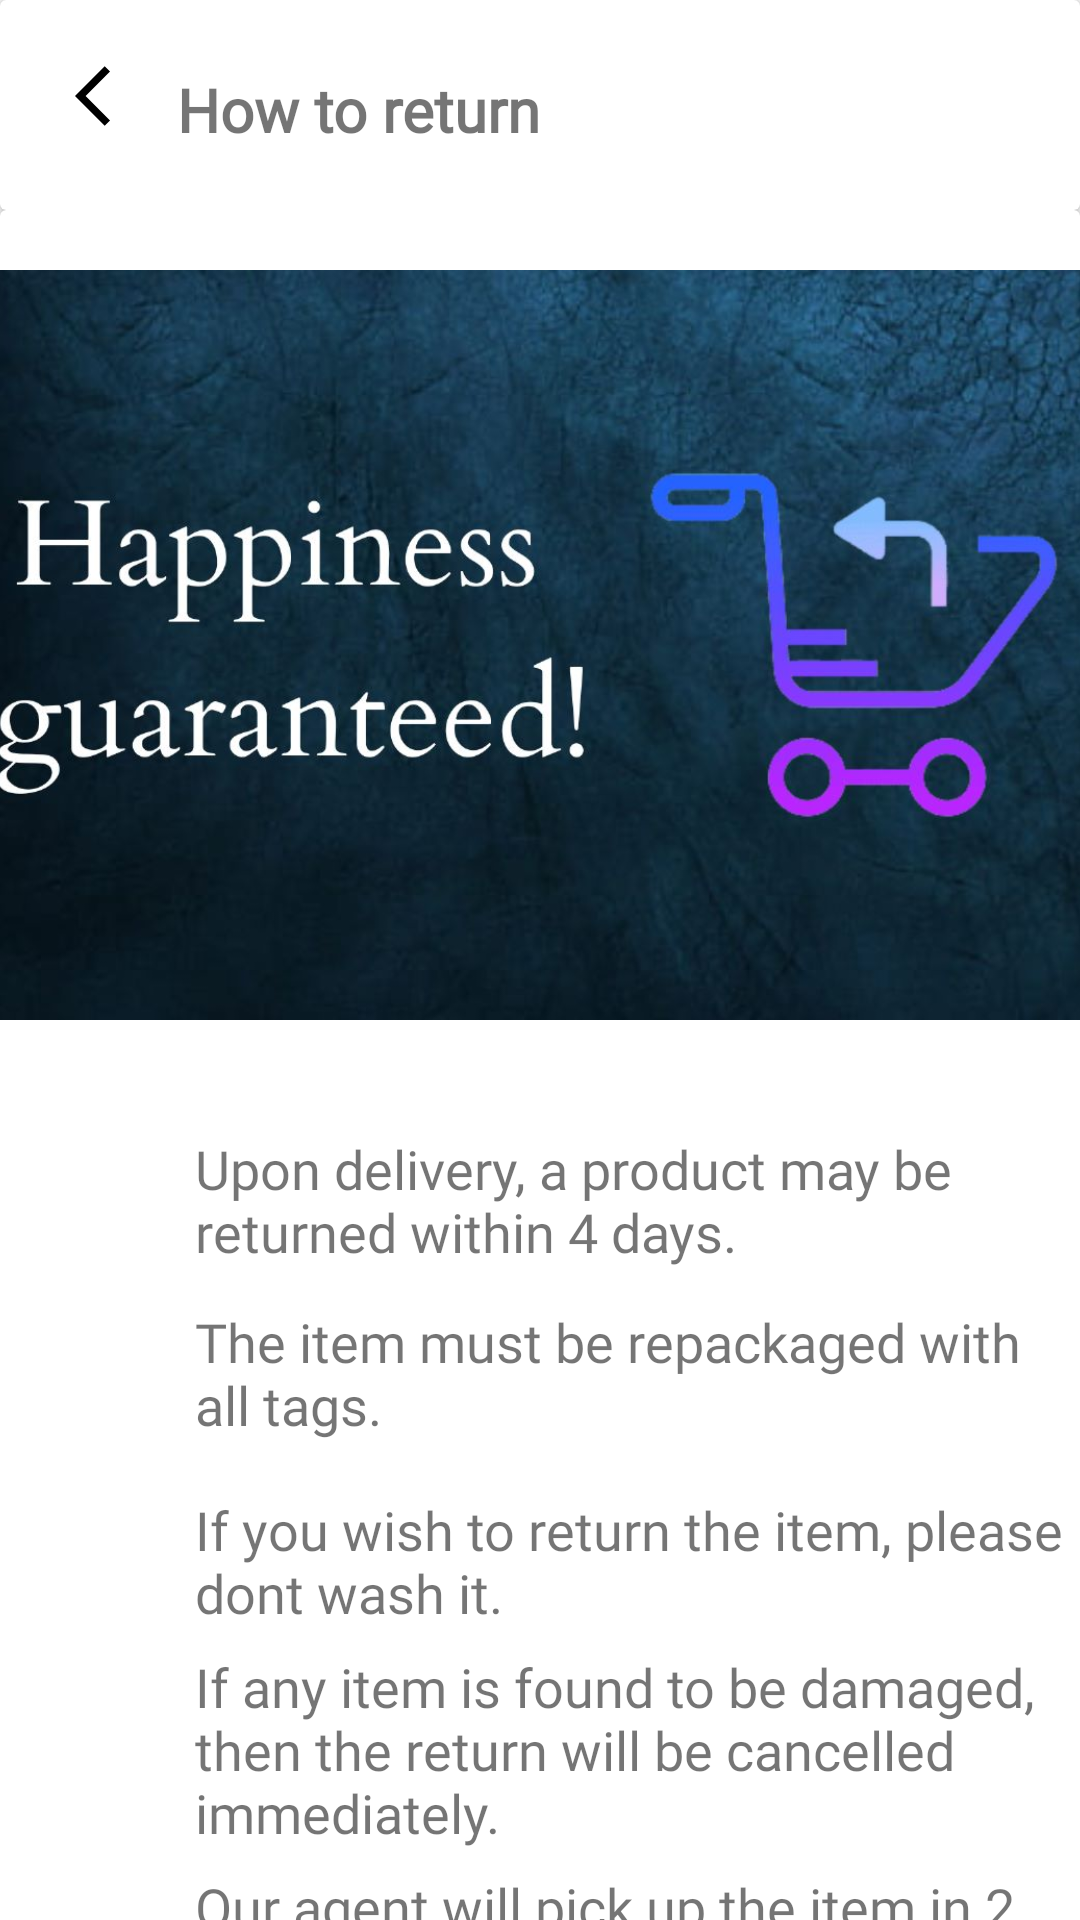

Point at icon controls on the screen. Image size 1080 x 1920, points as [x,y].
arrow back: [92,96]
